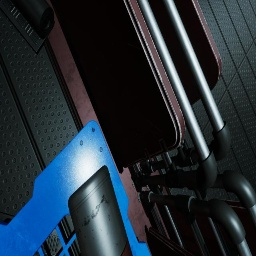NitrogenTank ,: (68, 165, 133, 256)
